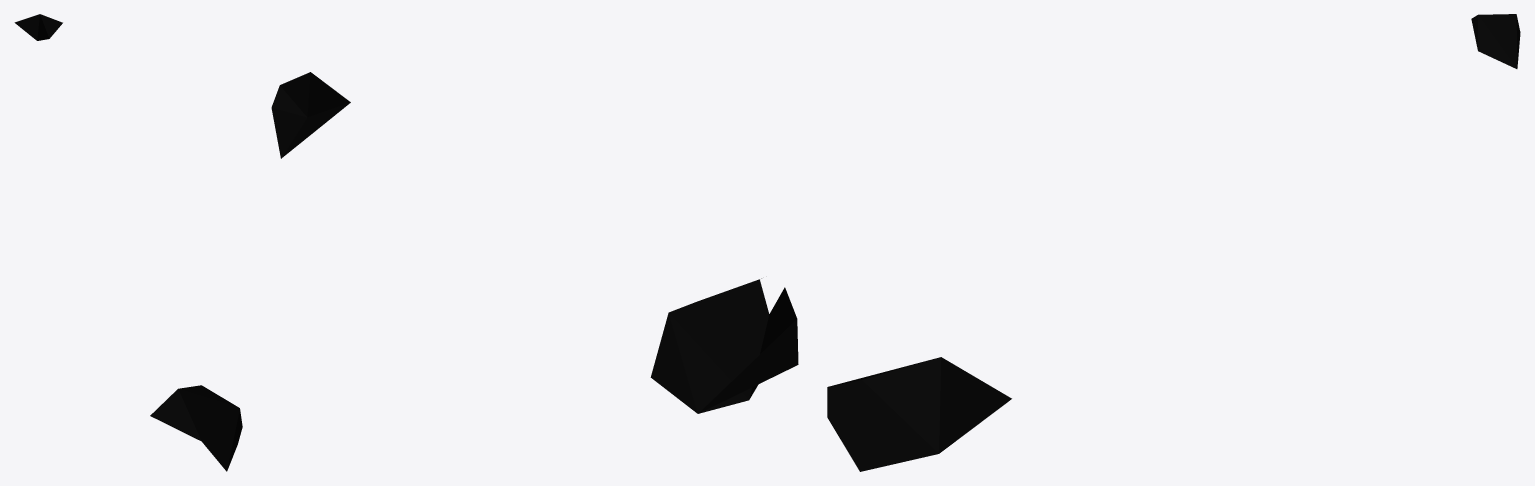
3 renders of one model, left to right at view 1: azimuth 30°, elevation 25°; view 2: azimuth 150°, elevation 25°; view 3: azimuth 270°, elevation 25°, orthographic. The views are drawn at different scales.
Bounding box in the file's own units: 0.1664 × 0.5579 × 0.7457.
1 material, 1 textured.
